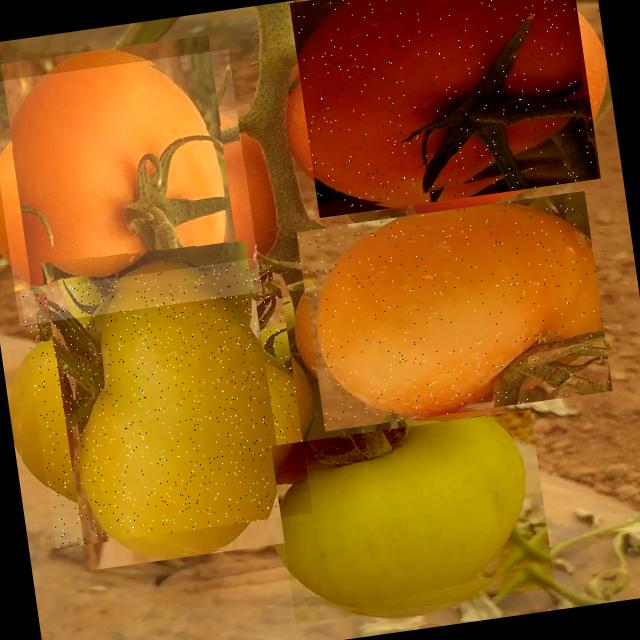Ripe Tomato: (296, 191, 612, 432), (0, 49, 262, 326), (290, 0, 601, 218)
Unripe Tomato: (20, 255, 313, 549), (272, 410, 556, 624)
